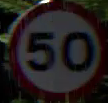Speed limit: (9, 1, 104, 96)
